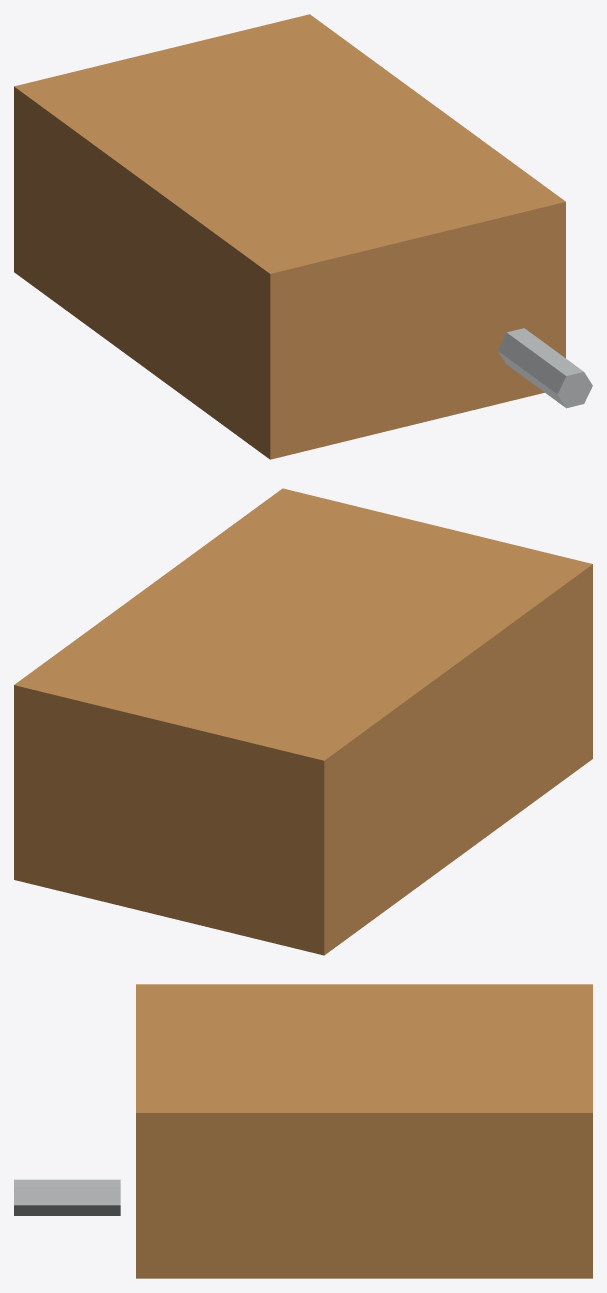
File: juice.glb
3 views of the same model, one above another, from view 1: azimuth 30°, elevation 25°; view 2: azimuth 150°, elevation 25°; view 3: azimuth 270°, elevation 25° (orthographic). The views are drawn at different scales.
Visible parts, largest first — view 1: 00_package, 03_straw; view 2: 00_package; view 3: 00_package, 03_straw.
Boxes of the visible parts, x1=… form: 00_package: x1=14, y1=14, x2=565, y2=459; 03_straw: x1=497, y1=328, x2=592, y2=408; 00_package: x1=14, y1=488, x2=592, y2=955; 00_package: x1=136, y1=984, x2=592, y2=1278; 03_straw: x1=14, y1=1179, x2=120, y2=1215.
Bounding box in the file's own units: 0.2 × 0.133 × 0.38.
